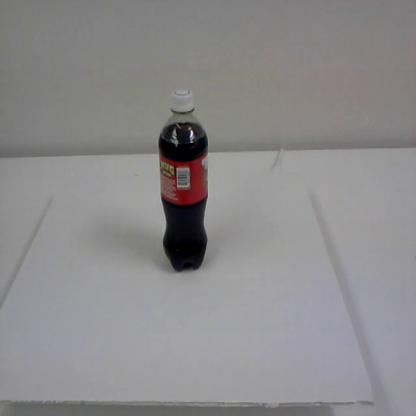bottle: (157, 85, 209, 274)
